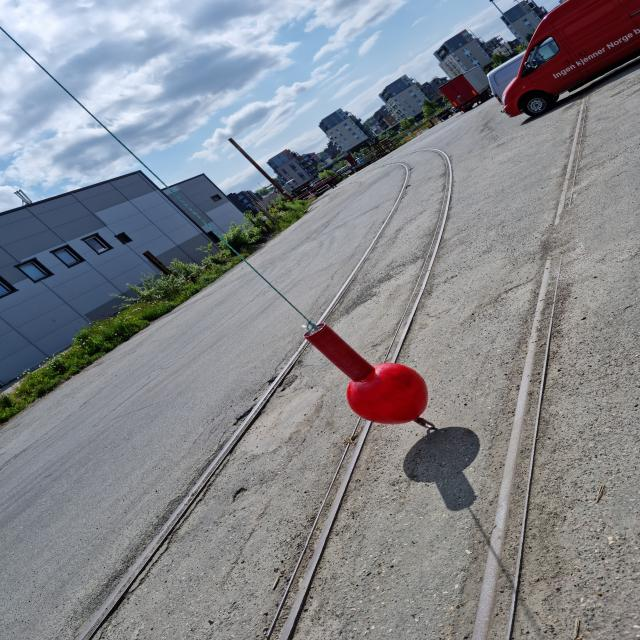red: (306, 322, 427, 425)
